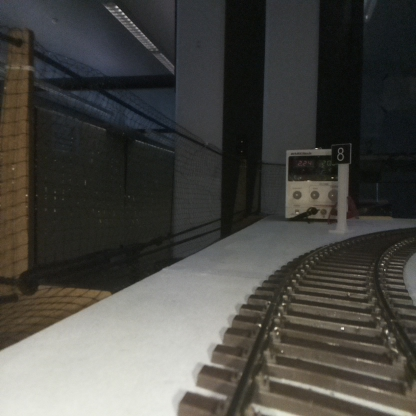black-info-8: (332, 144, 350, 232)
